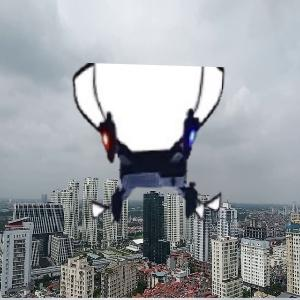drone: (69, 66, 236, 233)
